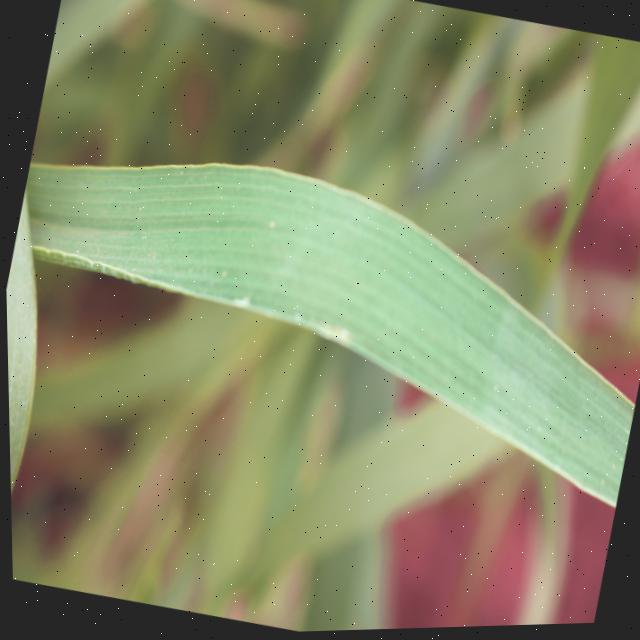healthy_wheat: (2, 95, 640, 543), (50, 0, 434, 124), (425, 8, 640, 226), (3, 145, 90, 563)
